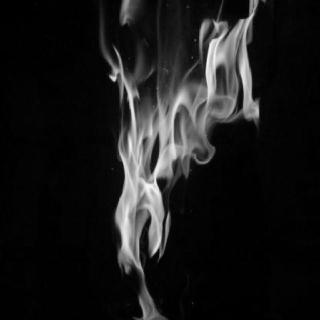Fire: (90, 0, 266, 320)
